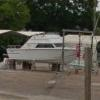Boat: (5, 30, 84, 71)
